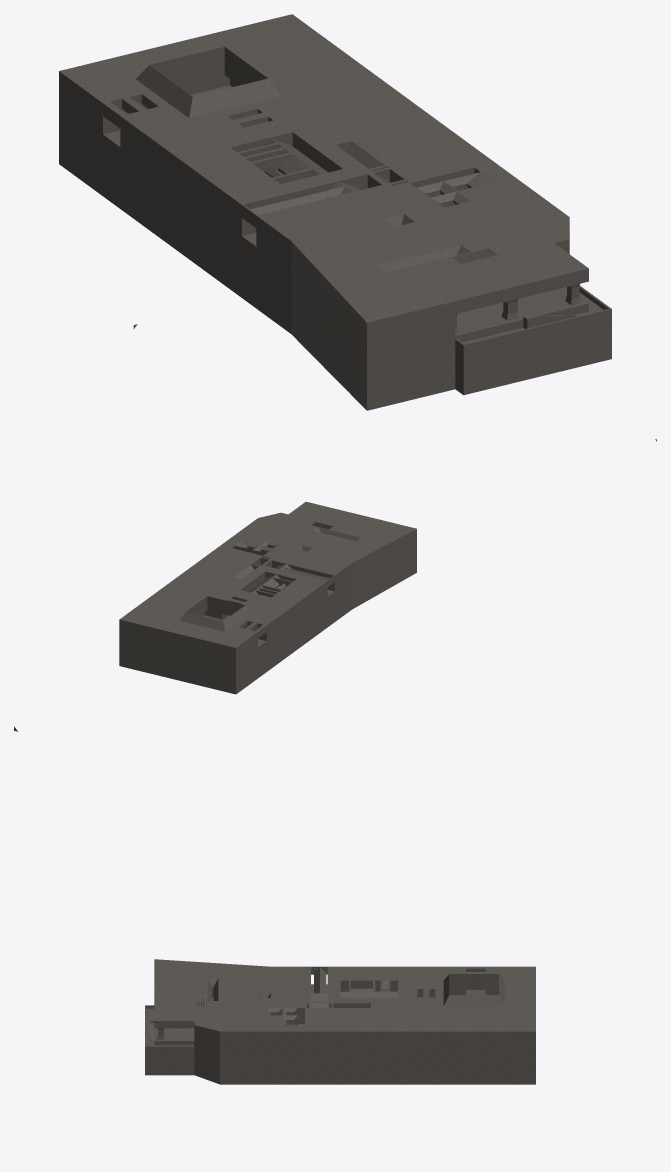
File: suncrete.fbx
The picture shows the model from 3 angles, top to bottom: view 1: azimuth 30°, elevation 25°; view 2: azimuth 150°, elevation 25°; view 3: azimuth 270°, elevation 25°; orthographic projection. The views are drawn at different scales.
Parts seen in each view (by area): view 1: BUILDING; view 2: BUILDING; view 3: BUILDING.
Part boxes in pixels (x1,y1,x2,y2): BUILDING: [59, 14, 611, 410]; BUILDING: [14, 439, 656, 731]; BUILDING: [145, 959, 535, 1084].
Size of the model in its own units: 14350 by 6560 by 19445.
1 material, 1 textured.
